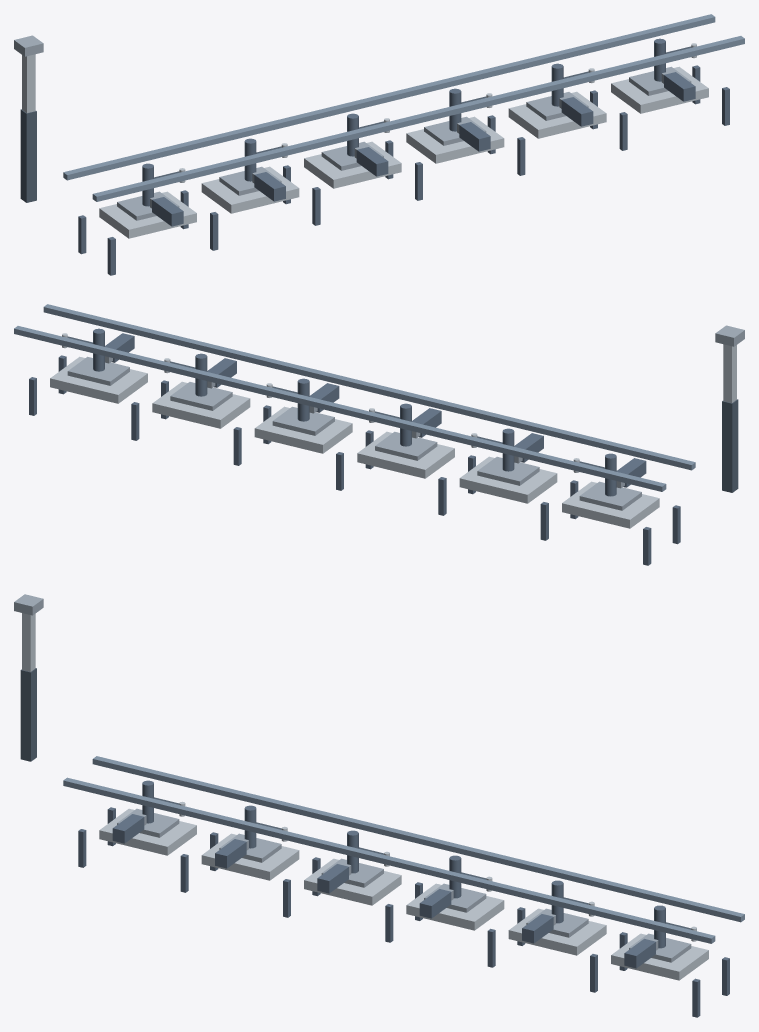
3 renders of one model, top to bottom at view 1: azimuth 30°, elevation 25°; view 2: azimuth 150°, elevation 25°; view 3: azimuth 330°, elevation 25°, orthographic.
Visible parts, largest first — view 1: 右导轨, 左导轨, 台架_4, 台架_5, 台架_1, 台架_2, 台架_3, 台架_6, 主臂杆, 前臂杆, 料盘_2, 料盘_4 (+11 smaller); view 2: 左导轨, 右导轨, 台架_5, 台架_2, 台架_4, 台架_1, 台架_3, 台架_6, 主臂杆, 料盘_2, 料盘_4, 料盘_5 (+5 smaller); view 3: 右导轨, 左导轨, 台架_2, 台架_5, 台架_4, 台架_3, 台架_6, 台架_1, 主臂杆, 前臂杆.
Boxes of the visible parts, x1=… form: 右导轨: x1=63, y1=14, x2=715, y2=180; 左导轨: x1=92, y1=36, x2=744, y2=201; 台架_4: x1=406, y1=116, x2=504, y2=163; 台架_5: x1=508, y1=91, x2=606, y2=138; 台架_1: x1=99, y1=191, x2=196, y2=238; 台架_2: x1=201, y1=166, x2=299, y2=213; 台架_3: x1=304, y1=141, x2=401, y2=188; 台架_6: x1=611, y1=66, x2=708, y2=113; 主臂杆: x1=20, y1=109, x2=36, y2=202; 前臂杆: x1=22, y1=54, x2=35, y2=112; 料盘_2: x1=219, y1=166, x2=281, y2=195; 料盘_4: x1=424, y1=116, x2=486, y2=145; 左导轨: x1=43, y1=304, x2=695, y2=470; 右导轨: x1=14, y1=326, x2=666, y2=491; 台架_5: x1=152, y1=381, x2=250, y2=428; 台架_2: x1=459, y1=456, x2=557, y2=503; 台架_4: x1=254, y1=406, x2=352, y2=453; 台架_1: x1=562, y1=481, x2=659, y2=528; 台架_3: x1=357, y1=431, x2=454, y2=478; 台架_6: x1=50, y1=356, x2=147, y2=403; 主臂杆: x1=722, y1=399, x2=738, y2=492; 料盘_2: x1=477, y1=456, x2=539, y2=485; 料盘_4: x1=272, y1=406, x2=334, y2=435; 料盘_5: x1=170, y1=382, x2=232, y2=410; 右导轨: x1=92, y1=756, x2=744, y2=922; 左导轨: x1=63, y1=777, x2=715, y2=943; 台架_2: x1=201, y1=833, x2=299, y2=880; 台架_5: x1=508, y1=908, x2=606, y2=955; 台架_4: x1=406, y1=883, x2=504, y2=930; 台架_3: x1=304, y1=858, x2=401, y2=905; 台架_6: x1=611, y1=933, x2=708, y2=980; 台架_1: x1=99, y1=808, x2=196, y2=855; 主臂杆: x1=20, y1=668, x2=36, y2=761; 前臂杆: x1=22, y1=613, x2=35, y2=671.
Size of the model in its own units: 83.1 by 26.7 by 9.4.
